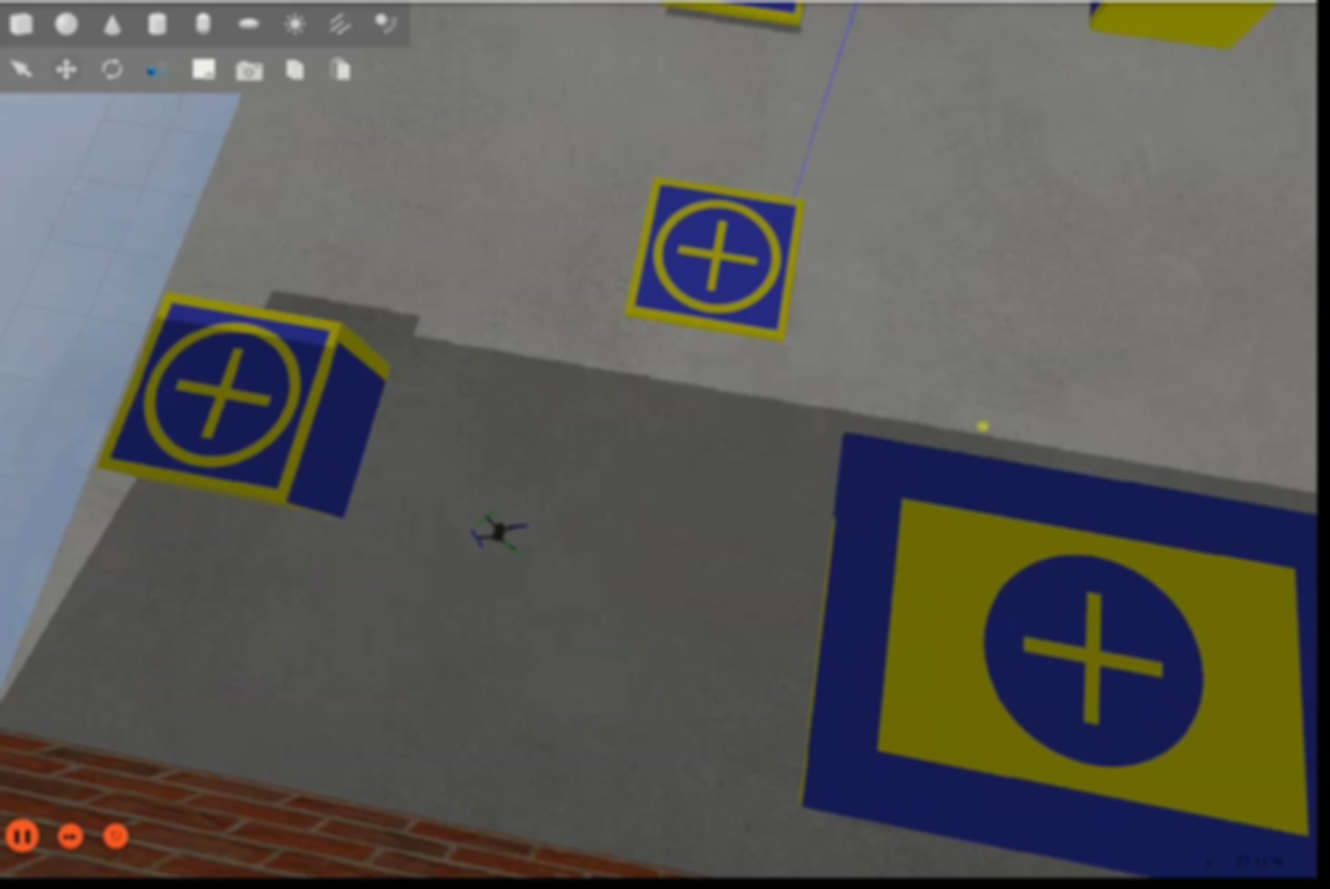large_base: (798, 428, 1319, 879)
small_base: (93, 290, 348, 510), (624, 174, 810, 350)
